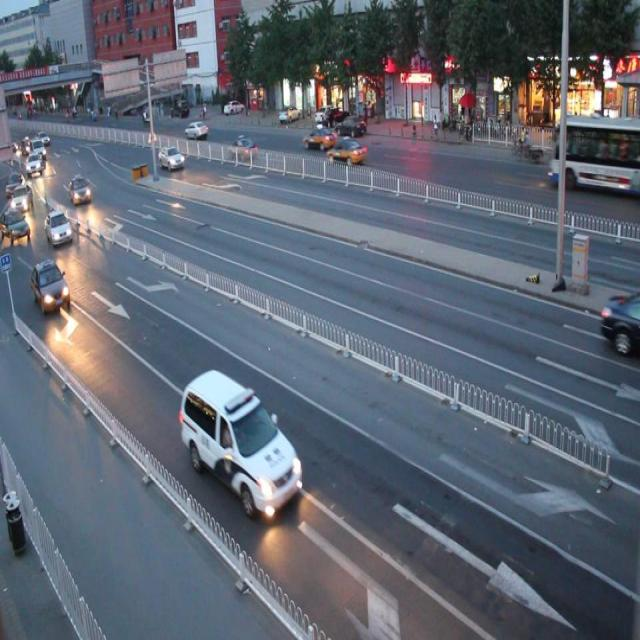car: (176, 364, 301, 518), (594, 286, 640, 354), (33, 258, 70, 312), (326, 137, 363, 165), (303, 126, 336, 149), (159, 142, 184, 170), (229, 135, 255, 161)
van: (549, 114, 640, 195)
